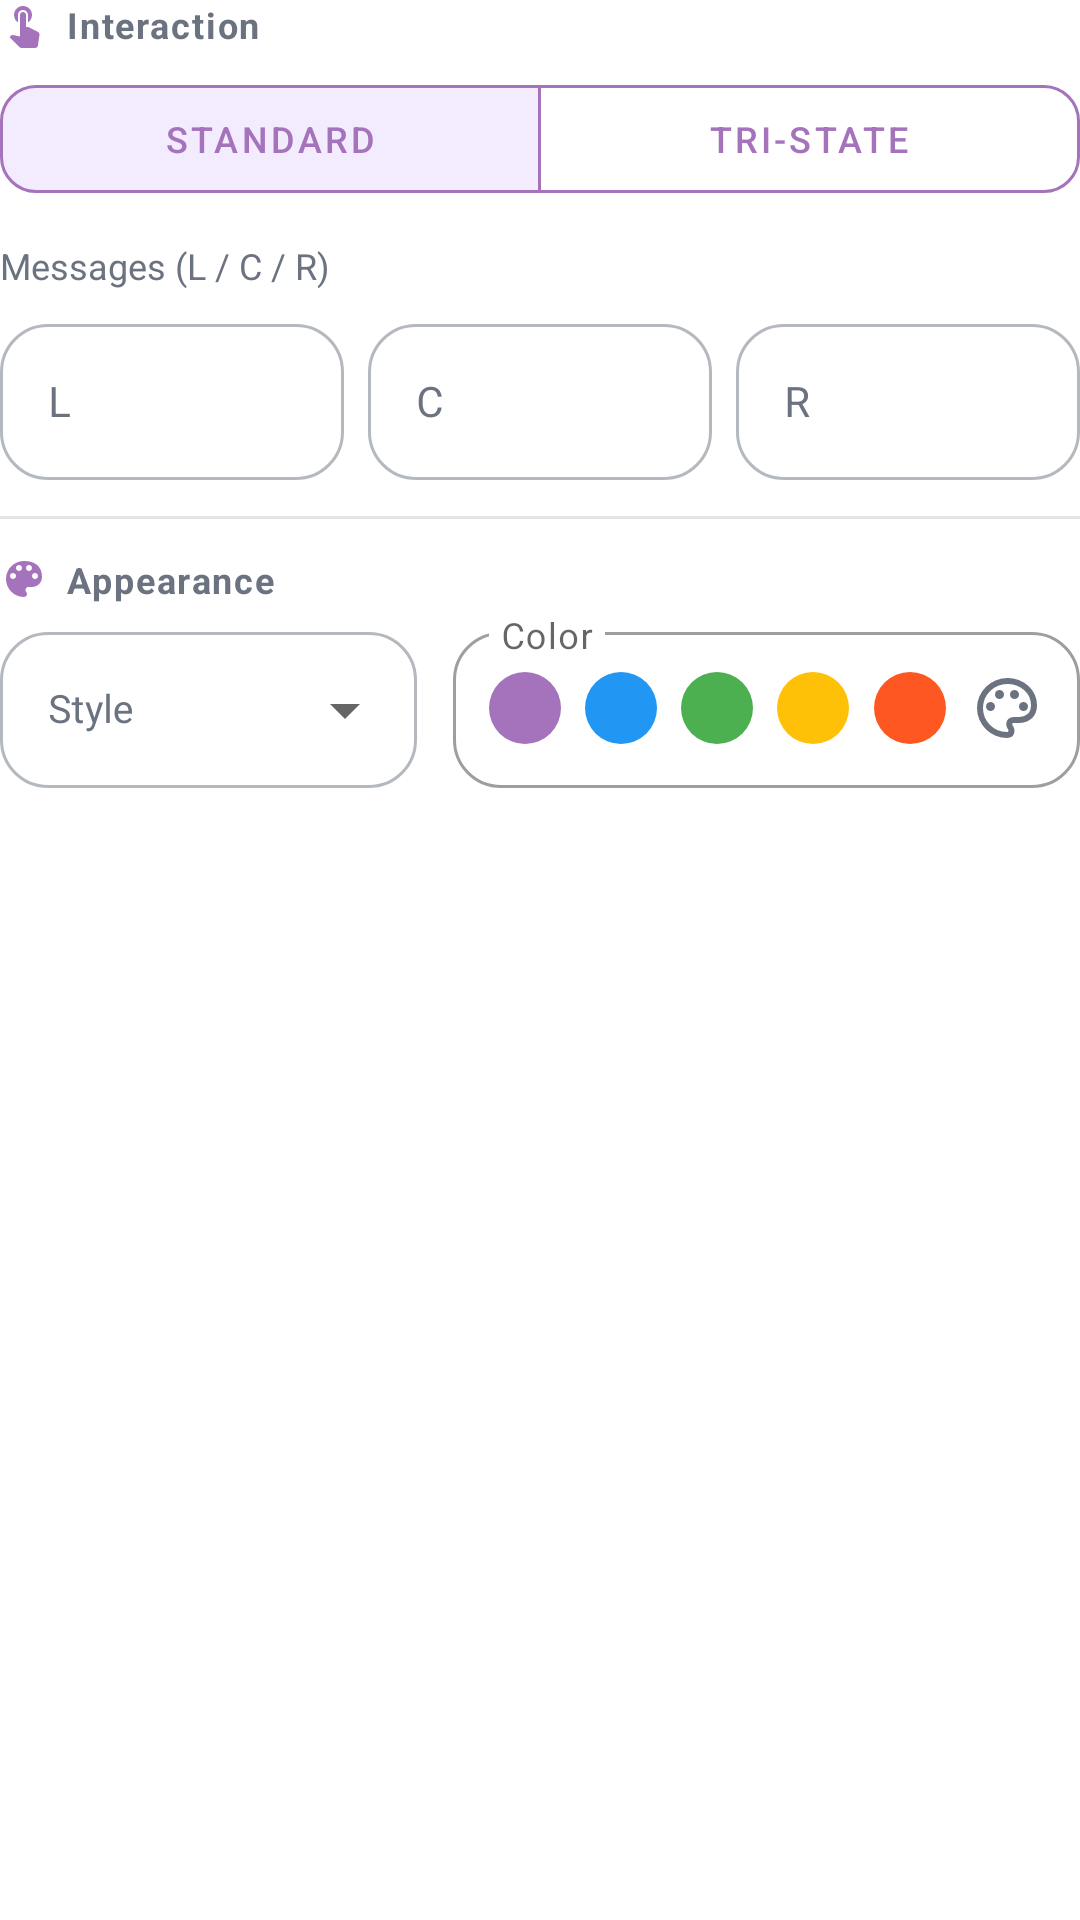

Icons on this 1080×1920 Android screen, each with its box as box(x1, y1, x2, y2):
palette: box(6, 561, 42, 597)
palette open: box(977, 678, 1037, 738)
touch app: box(9, 6, 40, 48)
